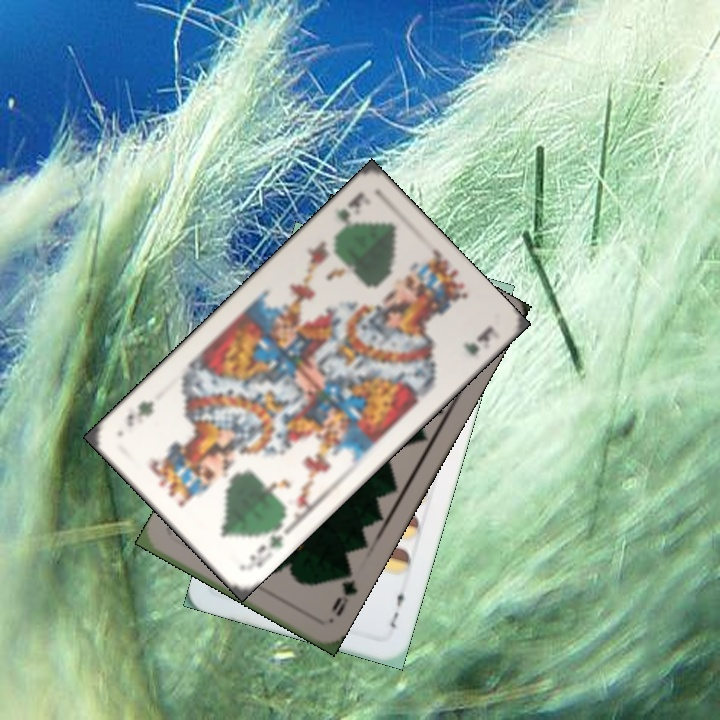E7: (386, 582, 409, 631)
G9: (326, 566, 361, 619)
GK: (242, 518, 286, 572), (330, 188, 368, 226)
